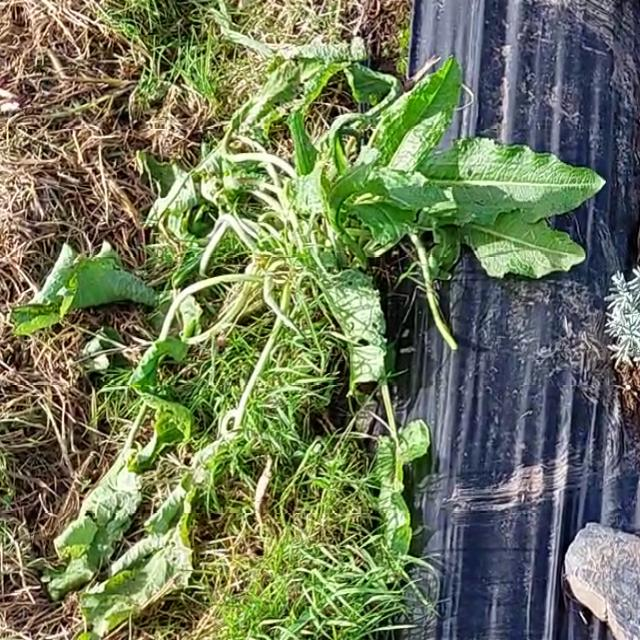organic waste: (33, 59, 596, 629)
